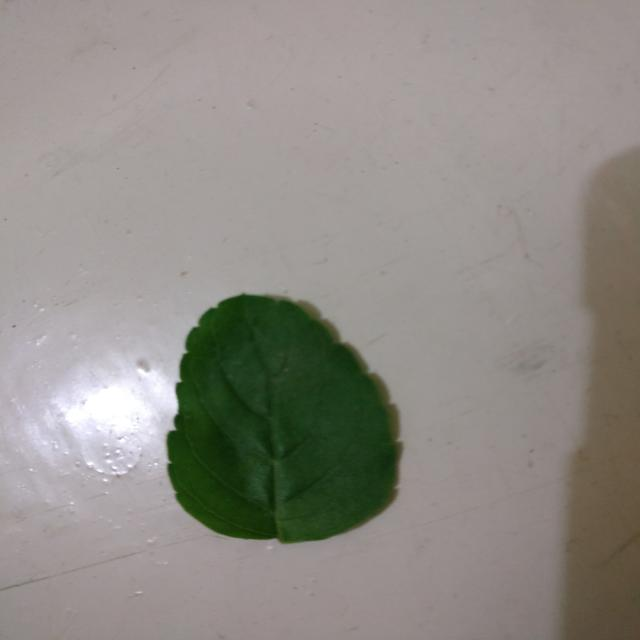tulsi: (167, 295, 398, 542)
